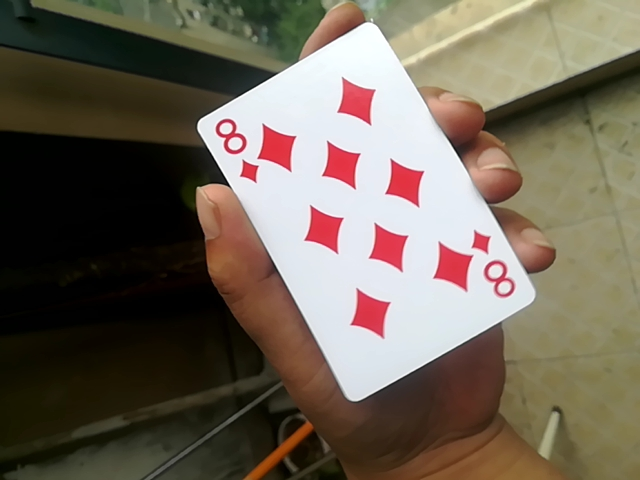fk 8: (179, 16, 525, 407)
